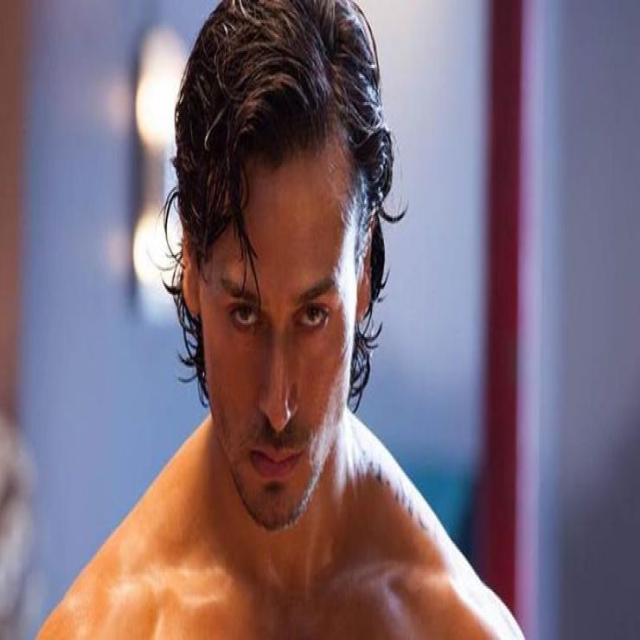mobile_phonerotation: (30, 0, 527, 637)
